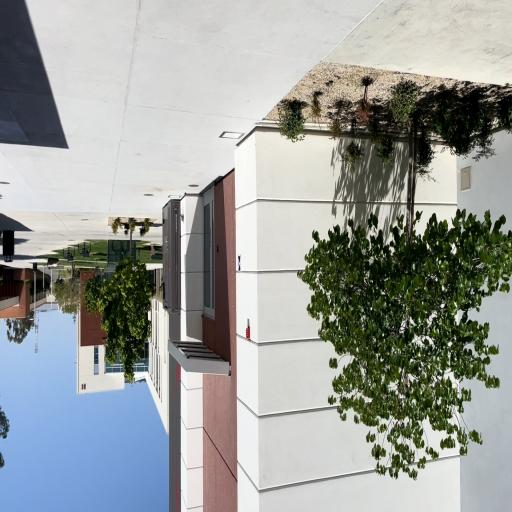target9: (238, 256, 241, 270)
